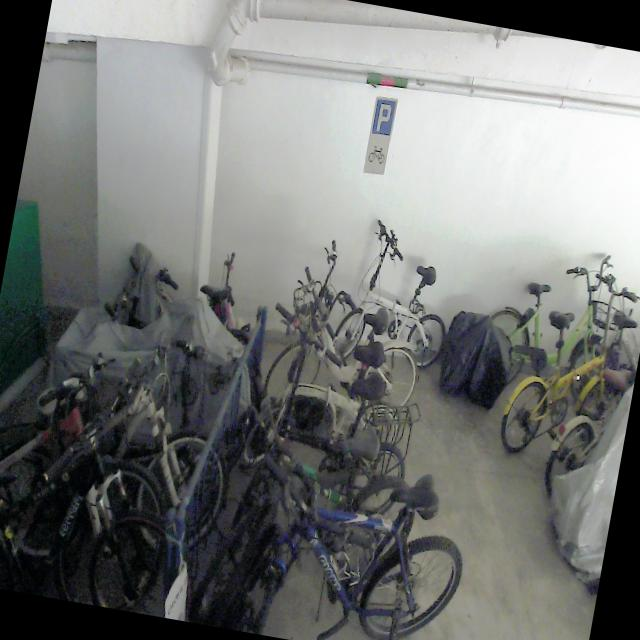bike: (0, 309, 247, 569), (187, 434, 476, 640), (0, 331, 197, 609), (226, 385, 434, 580), (262, 230, 438, 419), (242, 300, 416, 488), (496, 257, 640, 470), (473, 233, 635, 421), (330, 214, 464, 377)
